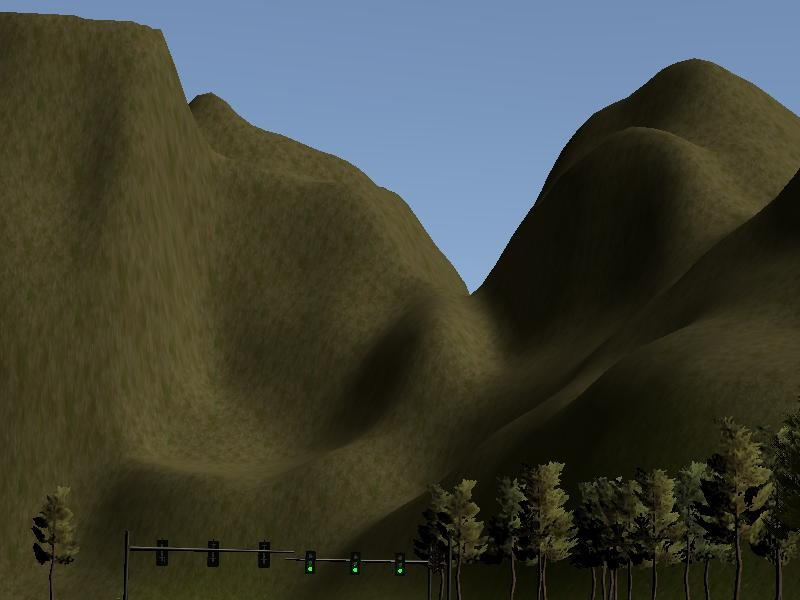green: (301, 547, 318, 581), (348, 550, 363, 581), (393, 553, 409, 578)
